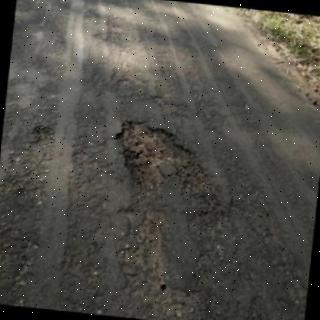pothole: (115, 121, 213, 193), (30, 125, 54, 144)
